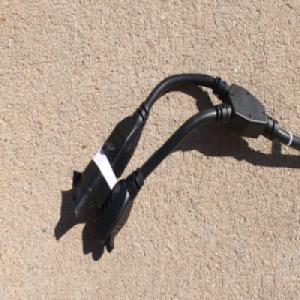Wire: (69, 70, 300, 255)
